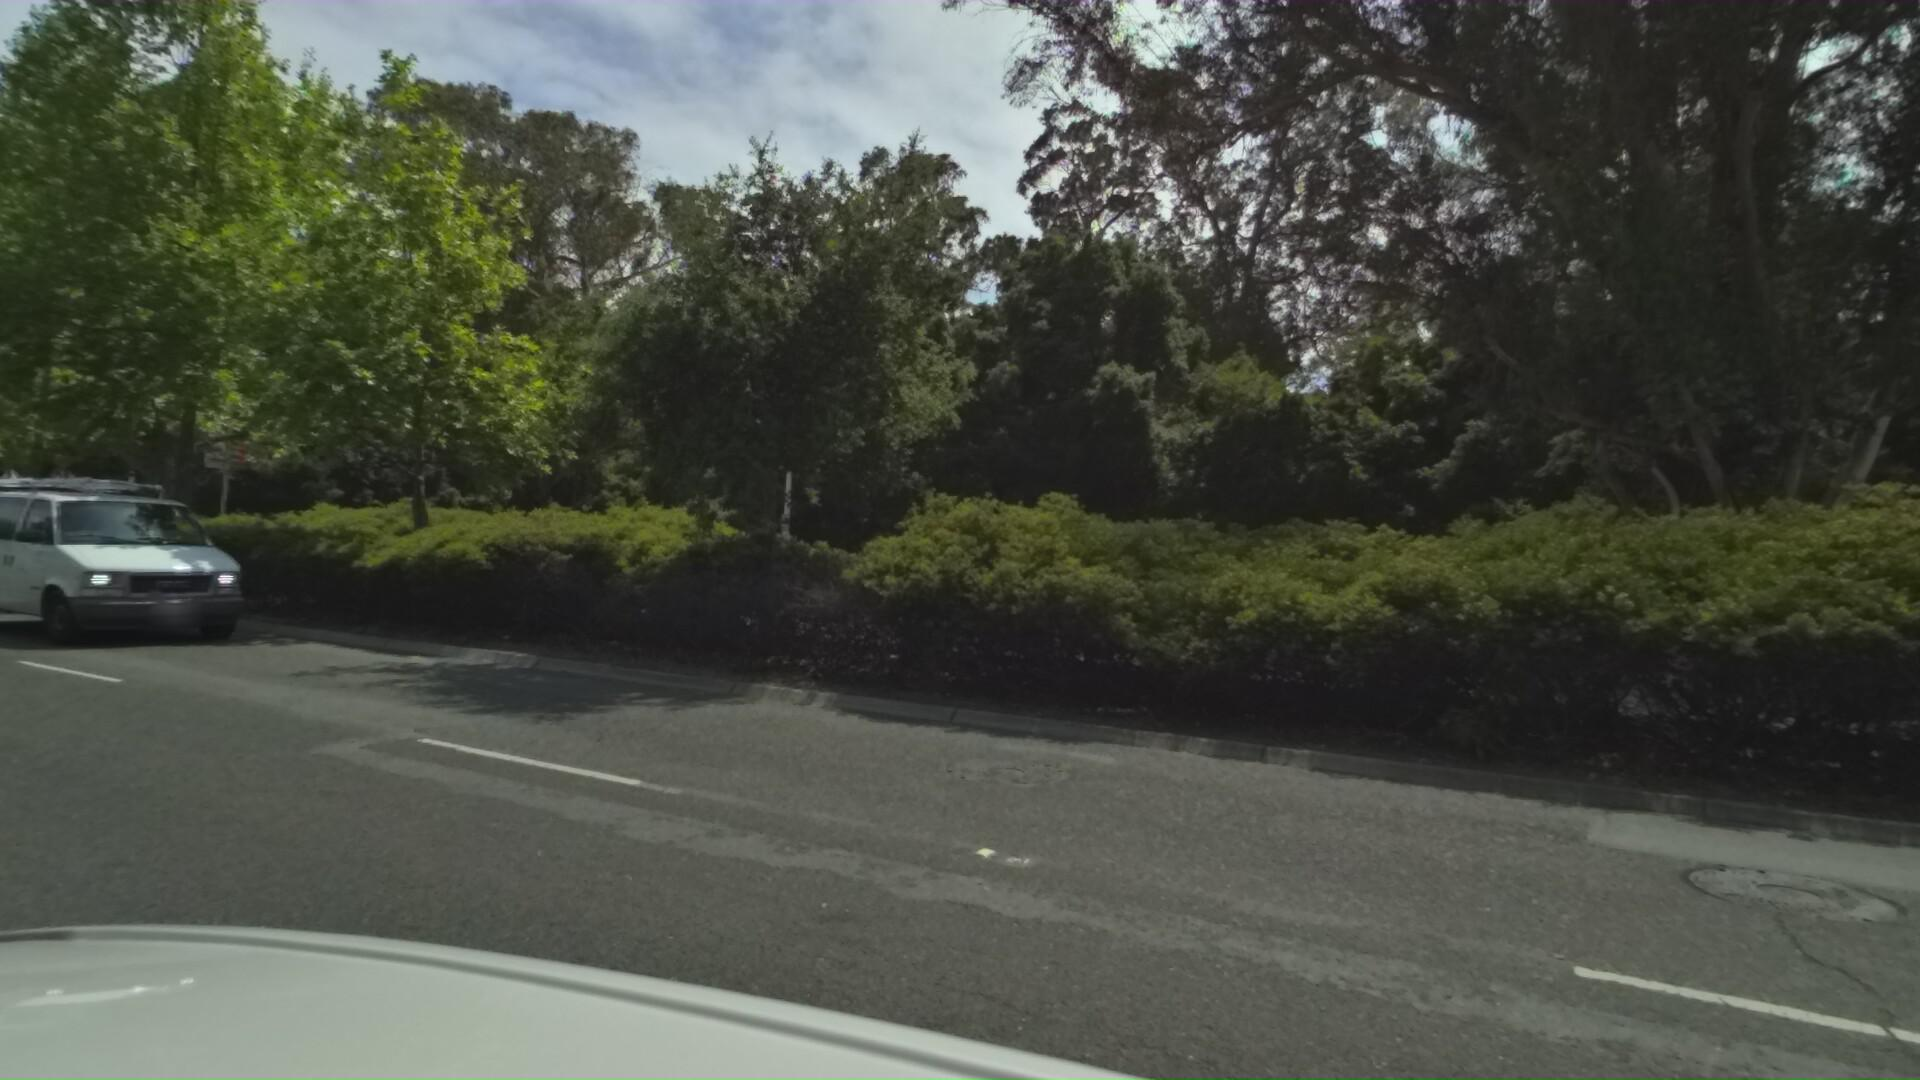car: (0, 452, 270, 650)
